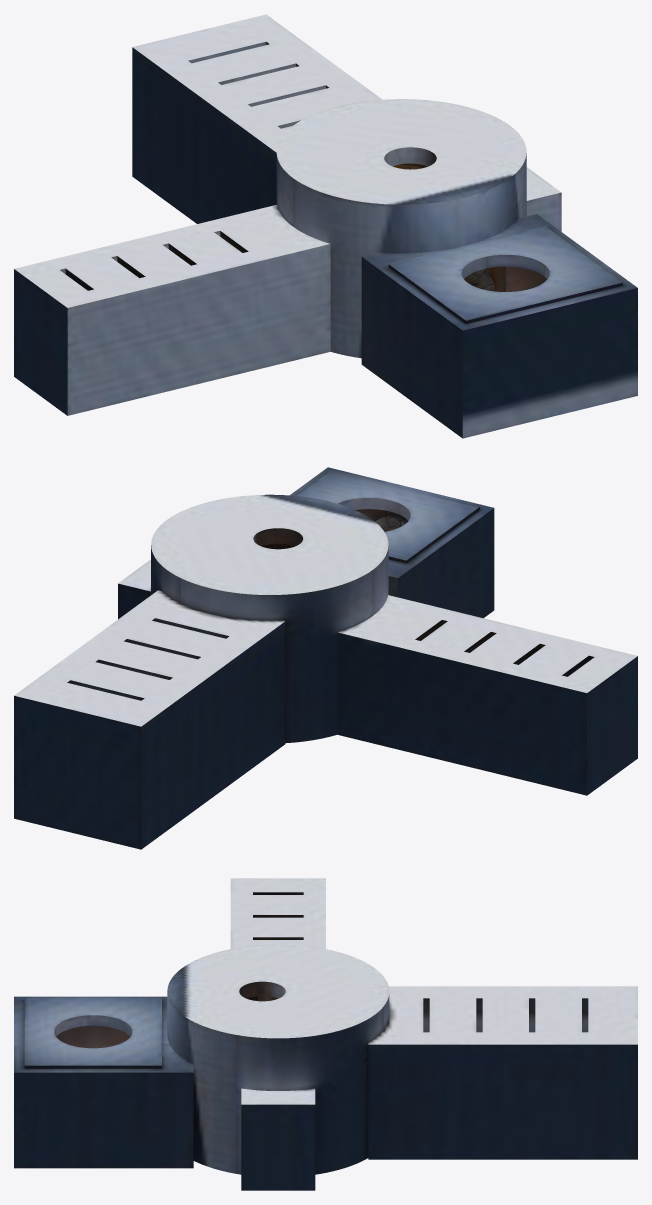
Rendered from sanctum-lite.glb.
The picture shows the model from 3 angles, top to bottom: view 1: azimuth 30°, elevation 25°; view 2: azimuth 150°, elevation 25°; view 3: azimuth 270°, elevation 25°; orthographic projection. The views are drawn at different scales.
Parts seen in each view (by area): view 1: sanctum_architecture; view 2: sanctum_architecture; view 3: sanctum_architecture.
Part boxes in pixels (box(x1,y1,x2,y2)): sanctum_architecture: box(14, 14, 637, 438); sanctum_architecture: box(14, 467, 637, 849); sanctum_architecture: box(14, 878, 637, 1190).
Bounding box in the file's own units: 48.5 × 14.5 × 59.
4 materials, 4 textured.
